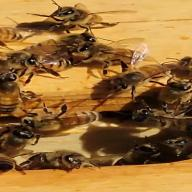Bee: (80, 51, 176, 107), (26, 4, 112, 34), (26, 146, 104, 176)
